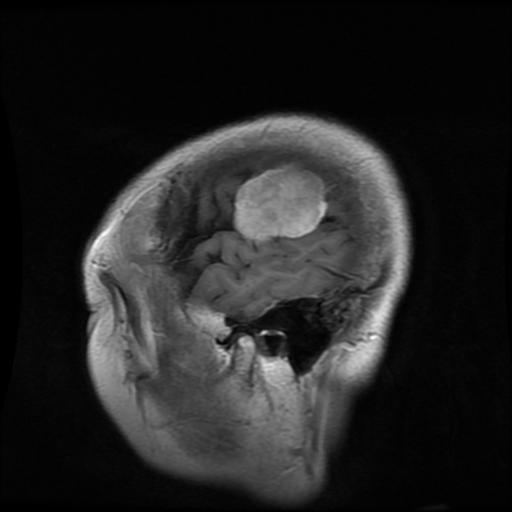Menigiomia_tumour: (232, 164, 328, 240)
